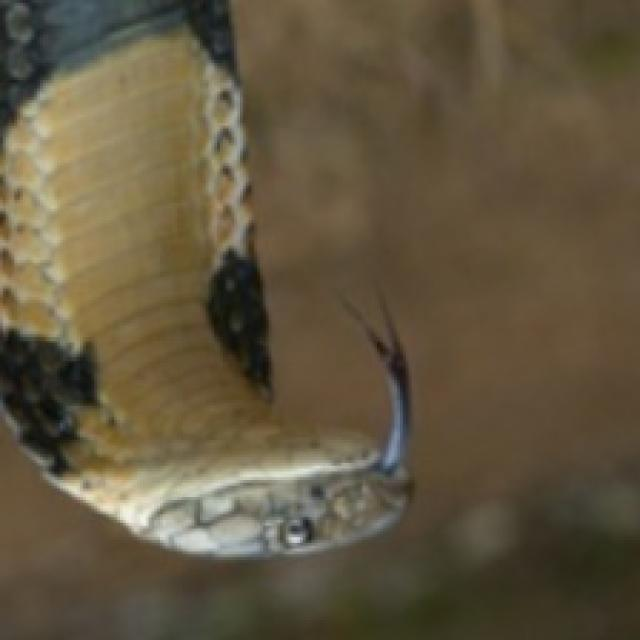king cobra: (0, 0, 409, 554)
